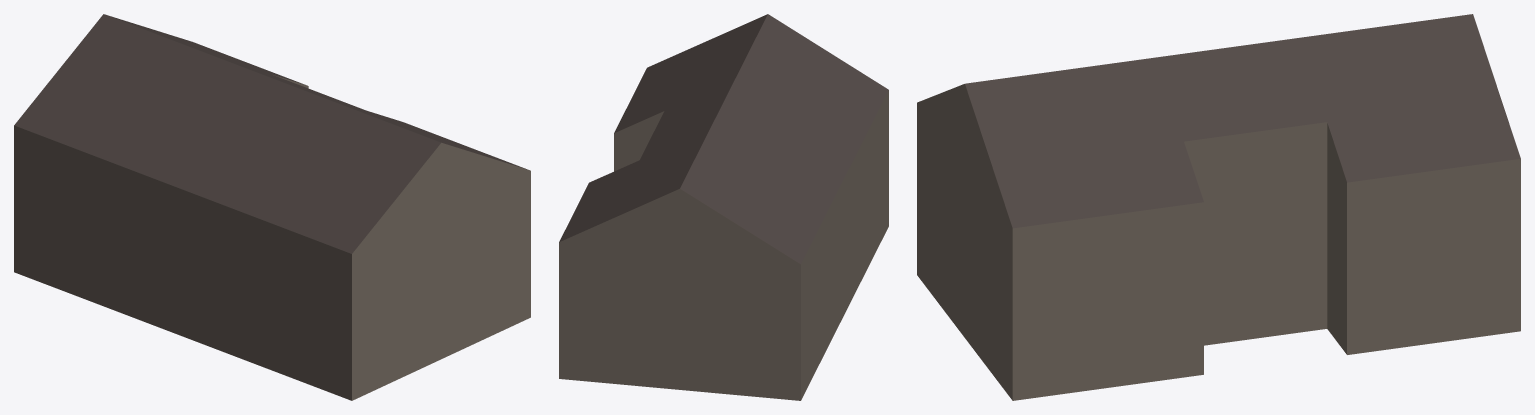
The picture shows the model from 3 angles, left to right: view 1: azimuth 30°, elevation 25°; view 2: azimuth 150°, elevation 25°; view 3: azimuth 270°, elevation 25°; orthographic projection. The views are drawn at different scales.
Visible parts, largest first — view 1: HP-w859082479; view 2: HP-w859082479; view 3: HP-w859082479.
Boxes of the visible parts, <box> form: HP-w859082479: <box>14,14,530,400</box>; HP-w859082479: <box>559,14,888,400</box>; HP-w859082479: <box>917,14,1520,400</box>.
Size of the model in its own units: 21.88 by 13.27 by 28.55.
